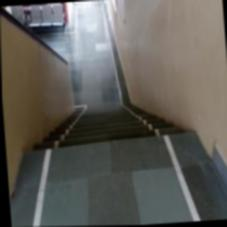Animal: (21, 101, 186, 158)
